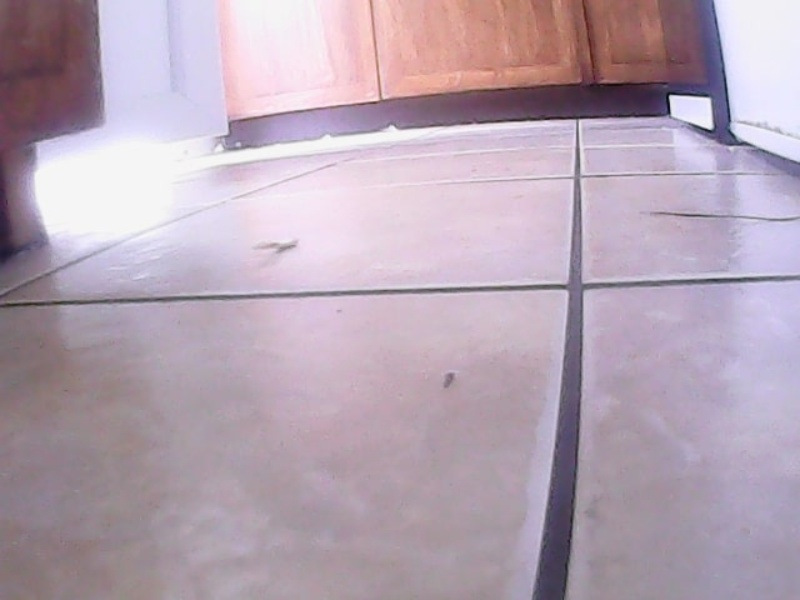cig: (260, 232, 301, 257)
